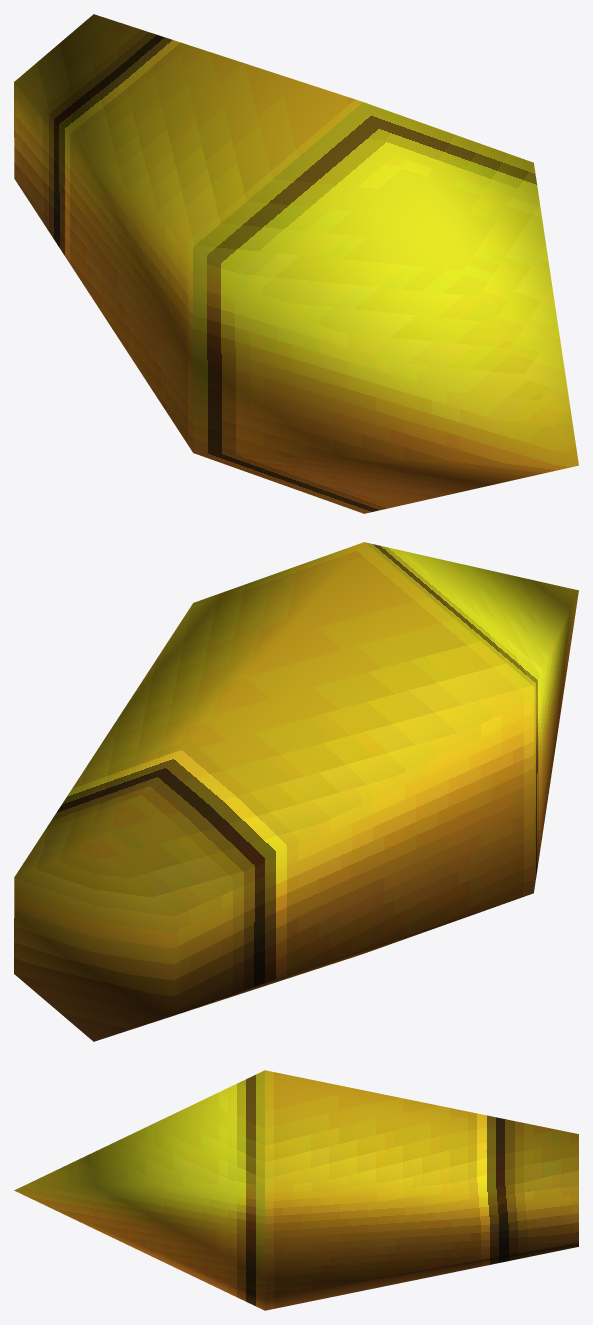
File: datan_common_eff_g2a1_82a57341.obj
The picture shows the model from 3 angles, top to bottom: view 1: azimuth 30°, elevation 25°; view 2: azimuth 150°, elevation 25°; view 3: azimuth 270°, elevation 25°; orthographic projection. The views are drawn at different scales.
Parts seen in each view (by area): view 1: datan_common_eff_g2a1_82a57341_mesh00; view 2: datan_common_eff_g2a1_82a57341_mesh00; view 3: datan_common_eff_g2a1_82a57341_mesh00.
Boxes of the visible parts, left/top/right/bottom form: datan_common_eff_g2a1_82a57341_mesh00: left=14, top=14, right=578, bottom=513; datan_common_eff_g2a1_82a57341_mesh00: left=14, top=542, right=578, bottom=1041; datan_common_eff_g2a1_82a57341_mesh00: left=14, top=1070, right=578, bottom=1310.
Size of the model in its own units: 0.1933 by 0.2228 by 0.475.
1 material, 1 textured.
